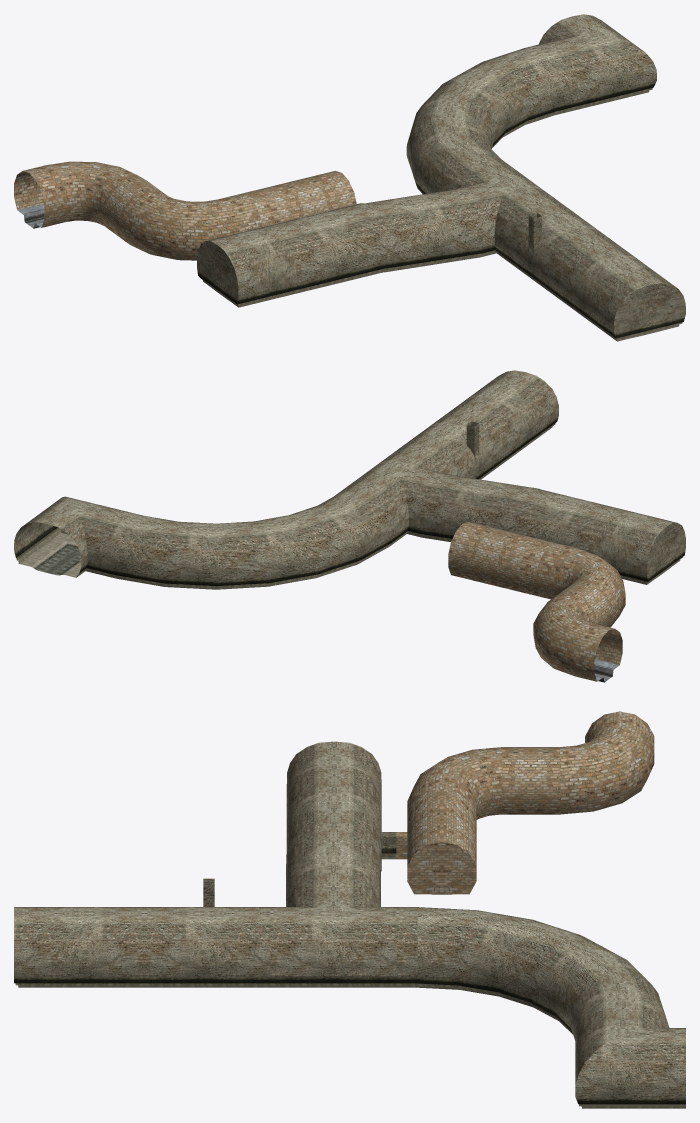
File: environment-blender.fbx
3 views of the same model, one above another, from view 1: azimuth 30°, elevation 25°; view 2: azimuth 150°, elevation 25°; view 3: azimuth 270°, elevation 25° (orthographic). The views are drawn at different scales.
Parts seen in each view (by area): view 1: Cylinder.001; view 2: Cylinder.001; view 3: Cylinder.001.
Part boxes in pixels (x1=…): Cylinder.001: x1=14, y1=14, x2=685, y2=341; Cylinder.001: x1=14, y1=370, x2=685, y2=682; Cylinder.001: x1=14, y1=711, x2=685, y2=1108.
Bounding box in the file's own units: 7616 × 798 × 6396.
Materials: 6 (6 with a texture image).
